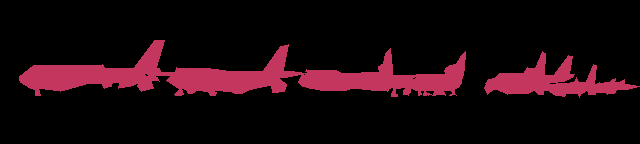Airplane: (144, 44, 309, 96), (19, 40, 164, 96), (298, 48, 417, 91), (484, 51, 575, 95), (390, 51, 466, 97), (534, 64, 596, 97), (587, 79, 640, 95), (595, 78, 617, 85)
